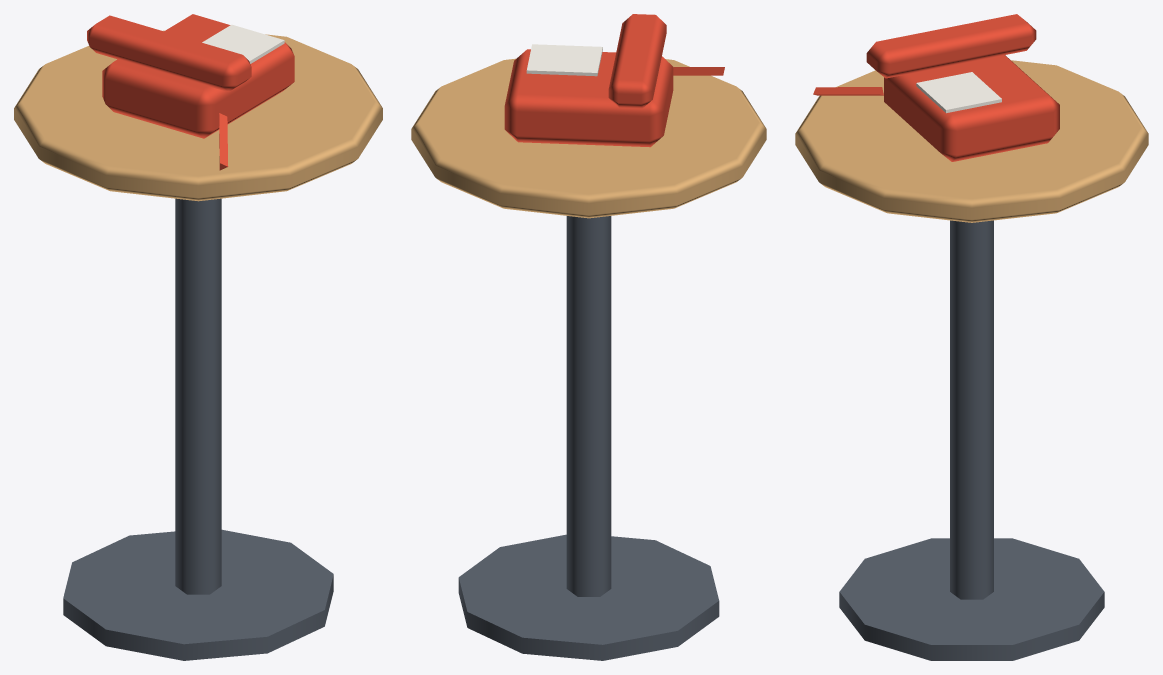
The model's file is station_intake_ausstattung_2_0.glb.
3 renders of one model, left to right at view 1: azimuth 30°, elevation 25°; view 2: azimuth 150°, elevation 25°; view 3: azimuth 270°, elevation 25°, orthographic. The views are drawn at different scales.
Parts seen in each view (by area): view 1: station_intake_ausstattung_2_0; view 2: station_intake_ausstattung_2_0; view 3: station_intake_ausstattung_2_0.
Boxes of the visible parts, x1,y1,x2,y2 form: station_intake_ausstattung_2_0: (14, 14, 382, 660); station_intake_ausstattung_2_0: (411, 14, 766, 660); station_intake_ausstattung_2_0: (795, 14, 1148, 660).
Size of the model in its own units: 0.4 by 0.6955 by 0.4.
